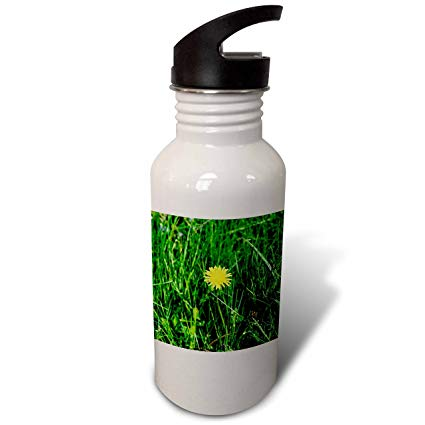dandelion: (202, 270, 227, 288)
